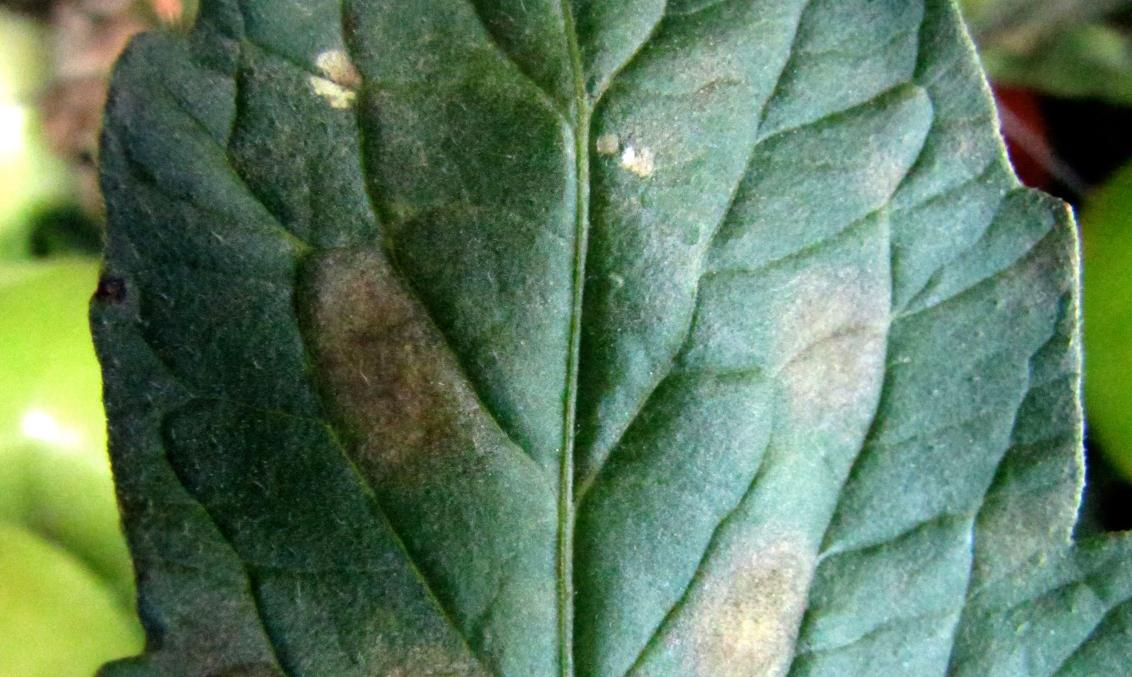Tomato mold leaf: (67, 0, 1131, 677)
